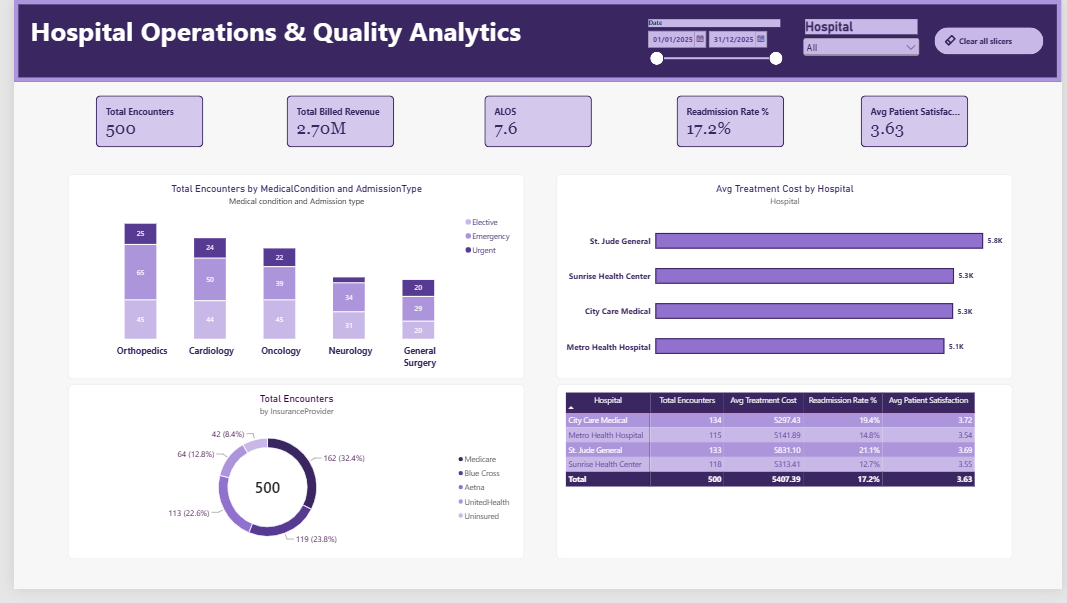

The page's visual inventory and layout, read from the dashboard file:
{"tool":"powerbi","page":{"name":"Page 2","canvas":[1920,1080],"ordinal":1},"visuals":[{"type":"shape","box":[0,0,1920,150],"z":0},{"type":"textbox","box":[0,22.3,959.6,81],"z":1000},{"type":"slicer","fields":{"Values":["Hospital Encounters Data.AdmissionDate"]},"box":[1156,36,258,108],"z":2000},{"type":"slicer","fields":{"Values":["Hospital Encounters Data.Hospital"]},"box":[1442.5,35,222,80],"z":3000},{"type":"actionButton","box":[1687.5,50,200,50],"z":4000},{"type":"cardVisual","fields":{"Data":["Measures (4).Total Encounters"]},"box":[150,175,197.5,95],"z":5000},{"type":"cardVisual","fields":{"Data":["Measures (4).Total Billed Revenue"]},"box":[500,175,197.5,95],"z":6000},{"type":"cardVisual","fields":{"Data":["Measures (4).ALOS"]},"box":[862.5,175,197.5,95],"z":7000},{"type":"cardVisual","fields":{"Data":["Measures (4).Readmission Rate %"]},"box":[1215,175,197.5,95],"z":8000},{"type":"cardVisual","fields":{"Data":["Measures (4).Avg Patient Satisfaction"]},"box":[1552.5,175,197.5,95],"z":9000},{"type":"columnChart","fields":{"Category":["Hospital Encounters Data.MedicalCondition"],"Series":["Hospital Encounters Data.AdmissionType"],"Y":["Measures (4).Total Encounters"]},"box":[100,320,835,375],"z":10000},{"type":"clusteredBarChart","fields":{"Category":["Hospital Encounters Data.Hospital"],"Y":["Measures (4).Avg Treatment Cost"]},"box":[995,320,835,375],"z":11000},{"type":"donutChart","fields":{"Category":["Hospital Encounters Data.InsuranceProvider"],"Y":["Measures (4).Total Encounters"]},"box":[100,705,835,320],"z":12000},{"type":"pivotTable","fields":{"Rows":["Hospital Encounters Data.Hospital"],"Values":["Measures (4).Total Encounters","Measures (4).Avg Treatment Cost","Measures (4).Readmission Rate %","Measures (4).Avg Patient Satisfaction"]},"box":[995,705,835,320],"z":13000}]}

Visuals, with their boxes in screenshot pixels (x1, y1, x2, y2), scaled from the page's 1920x1080 canvas onto the 1067x603 screenshot:
shape: bbox(0, 0, 1066, 84)
textbox: bbox(0, 12, 533, 58)
slicer - Hospital Encounters Data.AdmissionDate: bbox(642, 20, 786, 80)
slicer - Hospital Encounters Data.Hospital: bbox(802, 20, 925, 64)
actionButton: bbox(938, 28, 1049, 56)
cardVisual - Measures (4).Total Encounters: bbox(83, 98, 193, 151)
cardVisual - Measures (4).Total Billed Revenue: bbox(278, 98, 388, 151)
cardVisual - Measures (4).ALOS: bbox(479, 98, 589, 151)
cardVisual - Measures (4).Readmission Rate %: bbox(675, 98, 785, 151)
cardVisual - Measures (4).Avg Patient Satisfaction: bbox(863, 98, 973, 151)
columnChart - Hospital Encounters Data.MedicalCondition x Hospital Encounters Data.AdmissionType: bbox(56, 179, 520, 388)
clusteredBarChart - Hospital Encounters Data.Hospital x Measures (4).Avg Treatment Cost: bbox(553, 179, 1017, 388)
donutChart - Hospital Encounters Data.InsuranceProvider x Measures (4).Total Encounters: bbox(56, 394, 520, 572)
pivotTable - Hospital Encounters Data.Hospital x Measures (4).Total Encounters: bbox(553, 394, 1017, 572)
